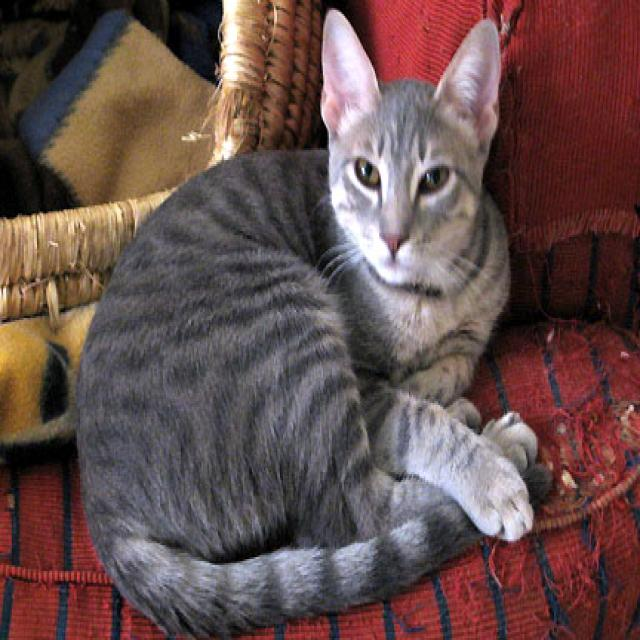Egyptian Mau: (67, 4, 554, 640)
